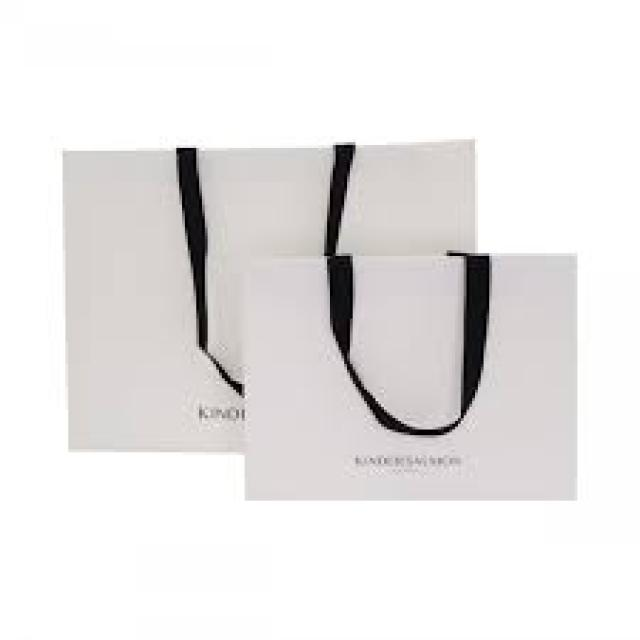paper bag: (240, 251, 583, 508)
